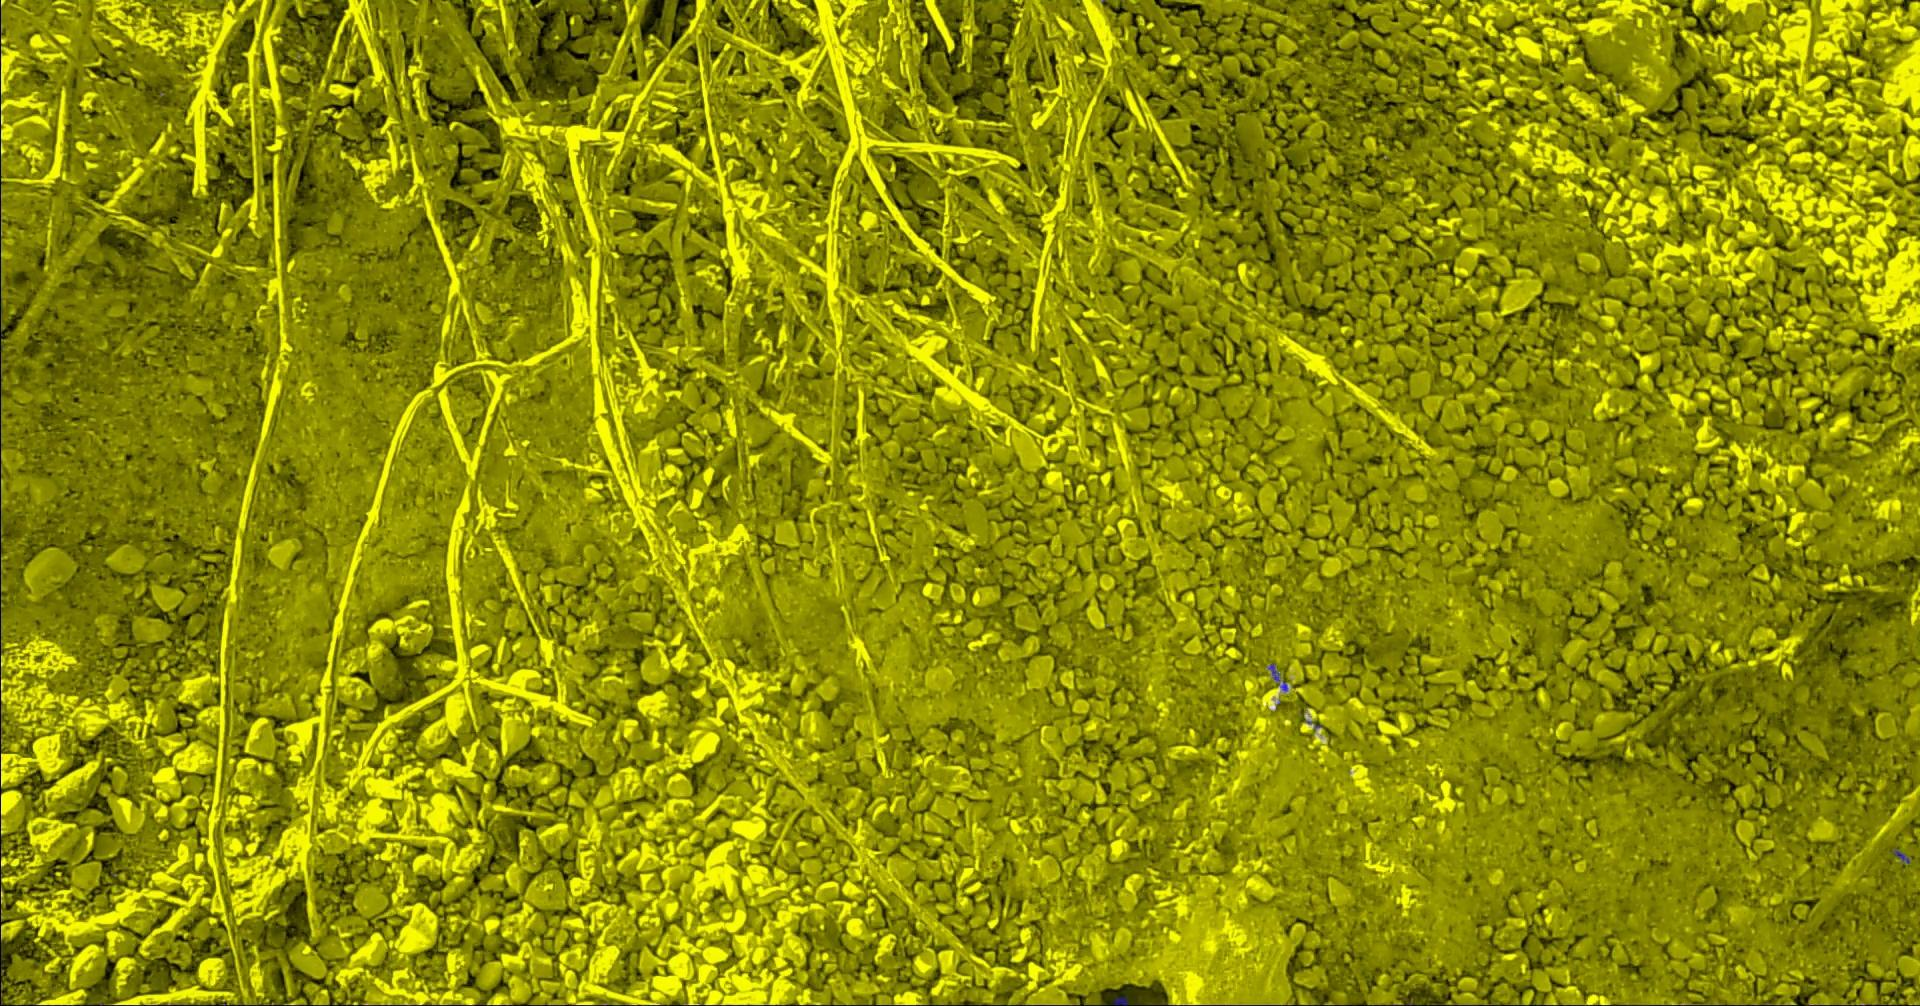ant: (1267, 663, 1288, 691), (1892, 847, 1909, 862), (1112, 995, 1128, 1005)
